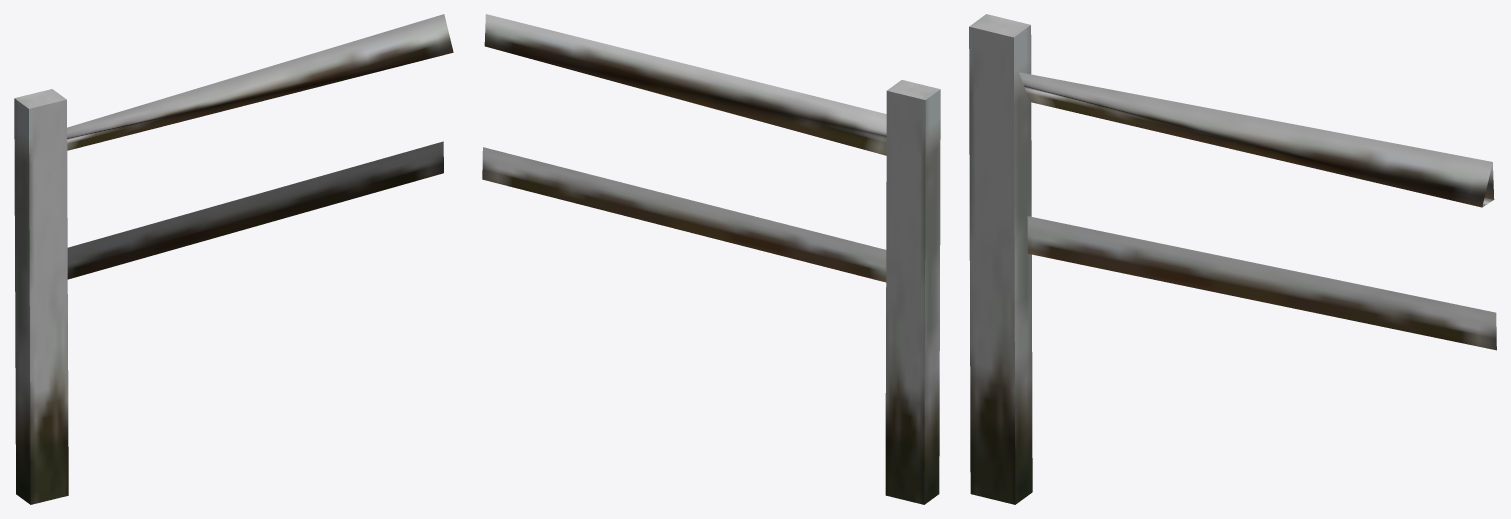
File: general_obj_fence04_lod_01.fbx
3 views of the same model, side by side, from view 1: azimuth 30°, elevation 25°; view 2: azimuth 150°, elevation 25°; view 3: azimuth 330°, elevation 25° (orthographic). The views are drawn at different scales.
Parts seen in each view (by area): view 1: Sphere01; view 2: Sphere01; view 3: Sphere01.
Part boxes in pixels (x1,y1,x2,y2): Sphere01: (14,14,453,504); Sphere01: (482,14,940,504); Sphere01: (969,14,1496,504).
Bounding box in the file's own units: 2.44 × 2.14 × 0.1635.
